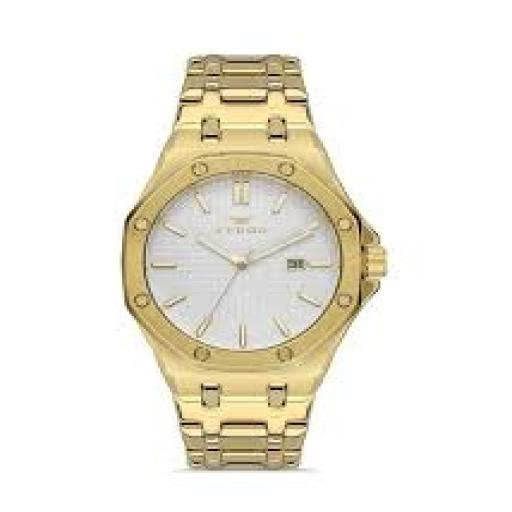KolSaati: (91, 22, 415, 484)
